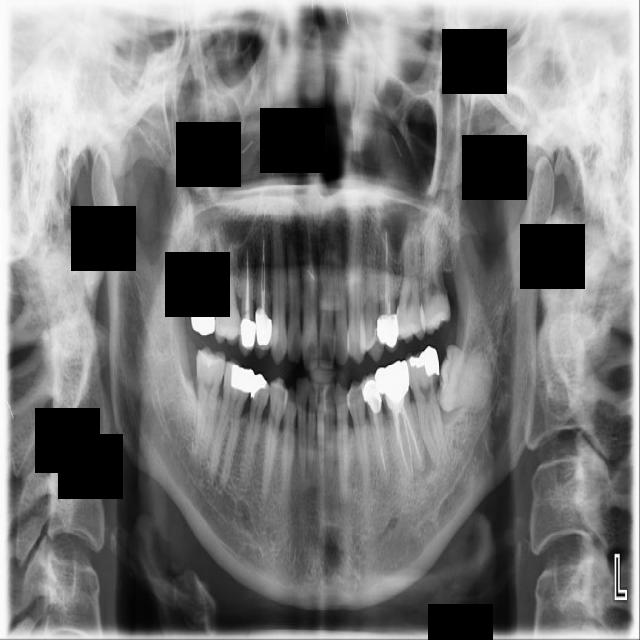52: (397, 343, 449, 399), (211, 355, 261, 409), (370, 358, 418, 409), (190, 293, 215, 337), (359, 371, 385, 409), (252, 315, 273, 360), (249, 374, 272, 412), (377, 314, 399, 353), (238, 319, 256, 358), (435, 262, 448, 297), (432, 374, 439, 394)
73: (381, 393, 431, 486), (373, 219, 397, 315), (367, 403, 394, 486), (195, 223, 218, 296), (254, 231, 271, 318), (240, 243, 255, 319), (591, 569, 595, 583)
BioHorizons Implant: (420, 213, 451, 335)
Biomet 3i Implant: (435, 343, 494, 416)
Blue Sky Bio Implant: (401, 344, 452, 472)
Caries: (189, 223, 216, 336)
Implant: (192, 346, 227, 465)
